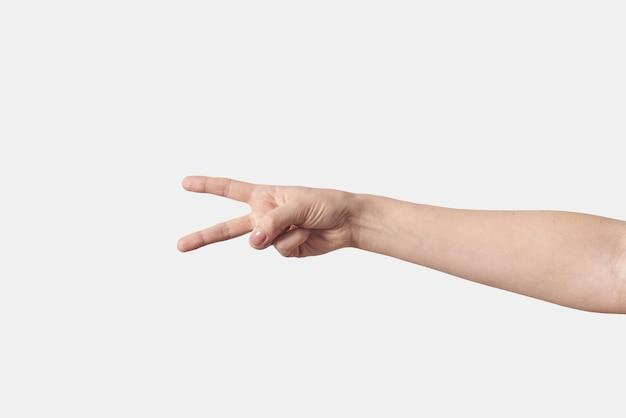peace_sign: (169, 168, 369, 262)
